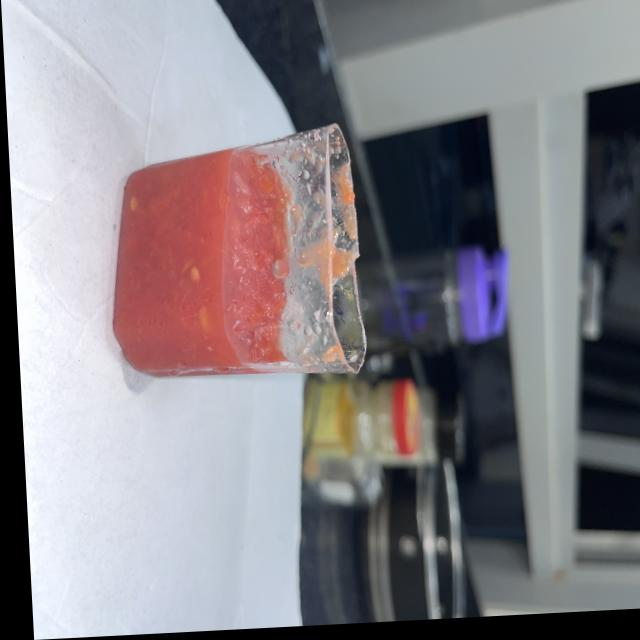blended_tomatoes_pepper: (105, 148, 295, 388)
